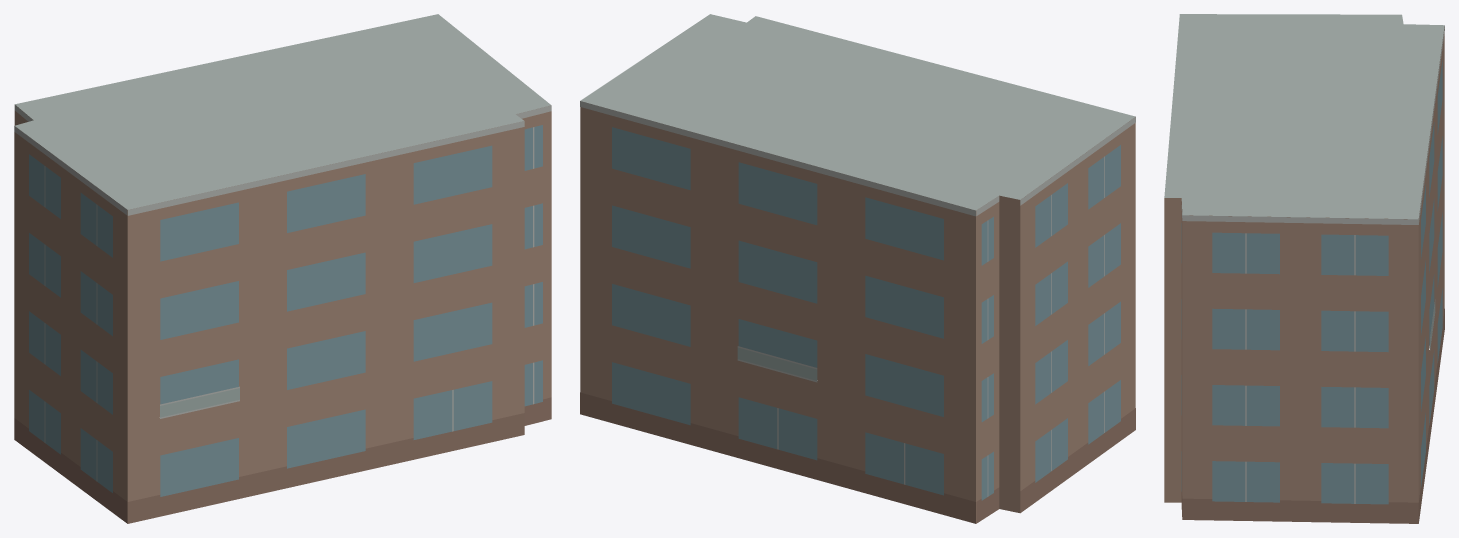
File: survey-upis-32591172.glb
The picture shows the model from 3 angles, left to right: view 1: azimuth 30°, elevation 25°; view 2: azimuth 150°, elevation 25°; view 3: azimuth 270°, elevation 25°; orthographic projection. The views are drawn at different scales.
Parts seen in each view (by area): view 1: survey-upis-32591172.tmp; view 2: survey-upis-32591172.tmp; view 3: survey-upis-32591172.tmp.
Part boxes in pixels (x1,y1,x2,y2): survey-upis-32591172.tmp: (14, 14, 551, 523); survey-upis-32591172.tmp: (580, 14, 1135, 523); survey-upis-32591172.tmp: (1164, 14, 1444, 523).
Bounding box in the file's own units: 18.51 × 12.8 × 10.69.
